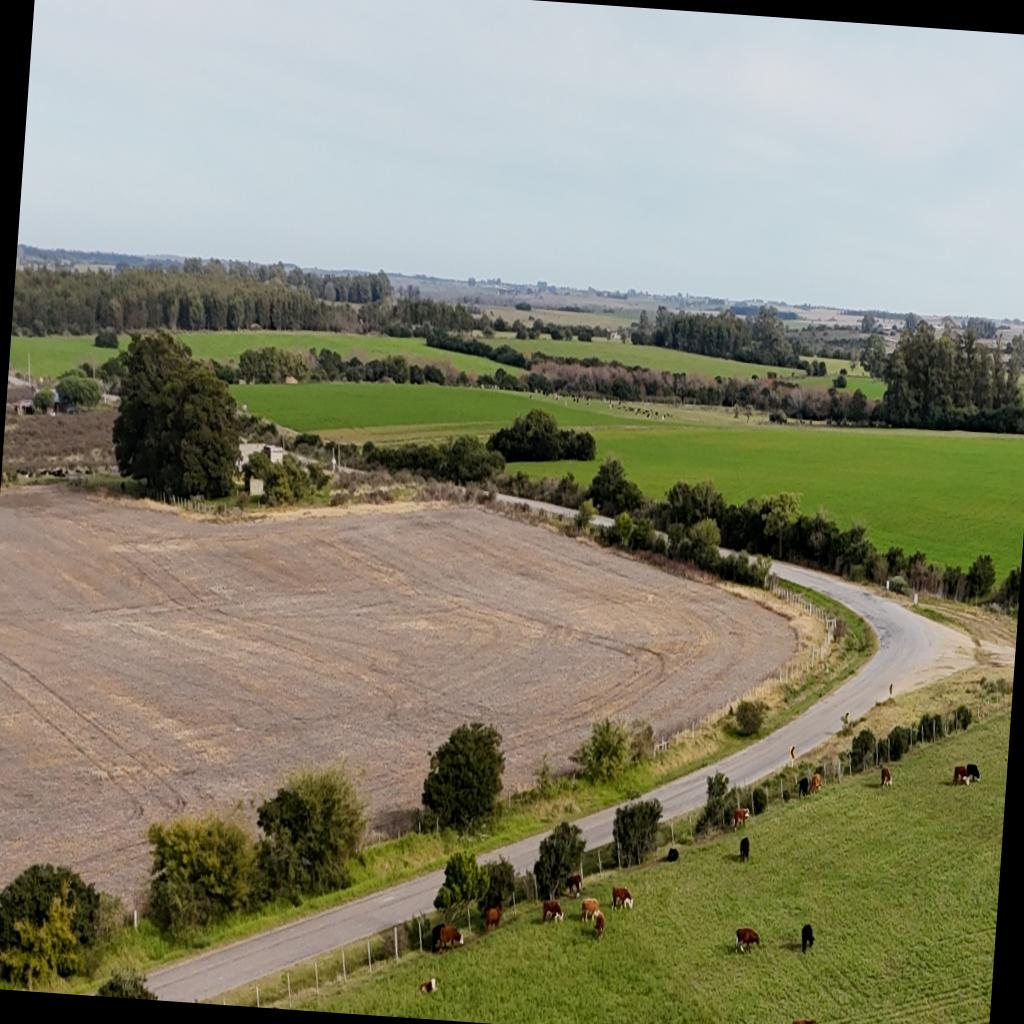cow: (734, 927, 762, 957), (484, 895, 505, 934), (439, 924, 466, 948), (612, 886, 636, 912), (541, 900, 564, 926), (564, 871, 584, 899), (800, 924, 816, 954), (430, 923, 445, 955), (732, 806, 750, 832), (419, 975, 439, 996), (594, 908, 607, 940), (580, 898, 602, 916), (952, 766, 970, 788), (660, 846, 680, 864), (797, 776, 811, 800), (738, 836, 750, 864), (880, 765, 893, 790), (966, 763, 982, 782), (810, 772, 822, 796), (790, 1017, 817, 1024)
